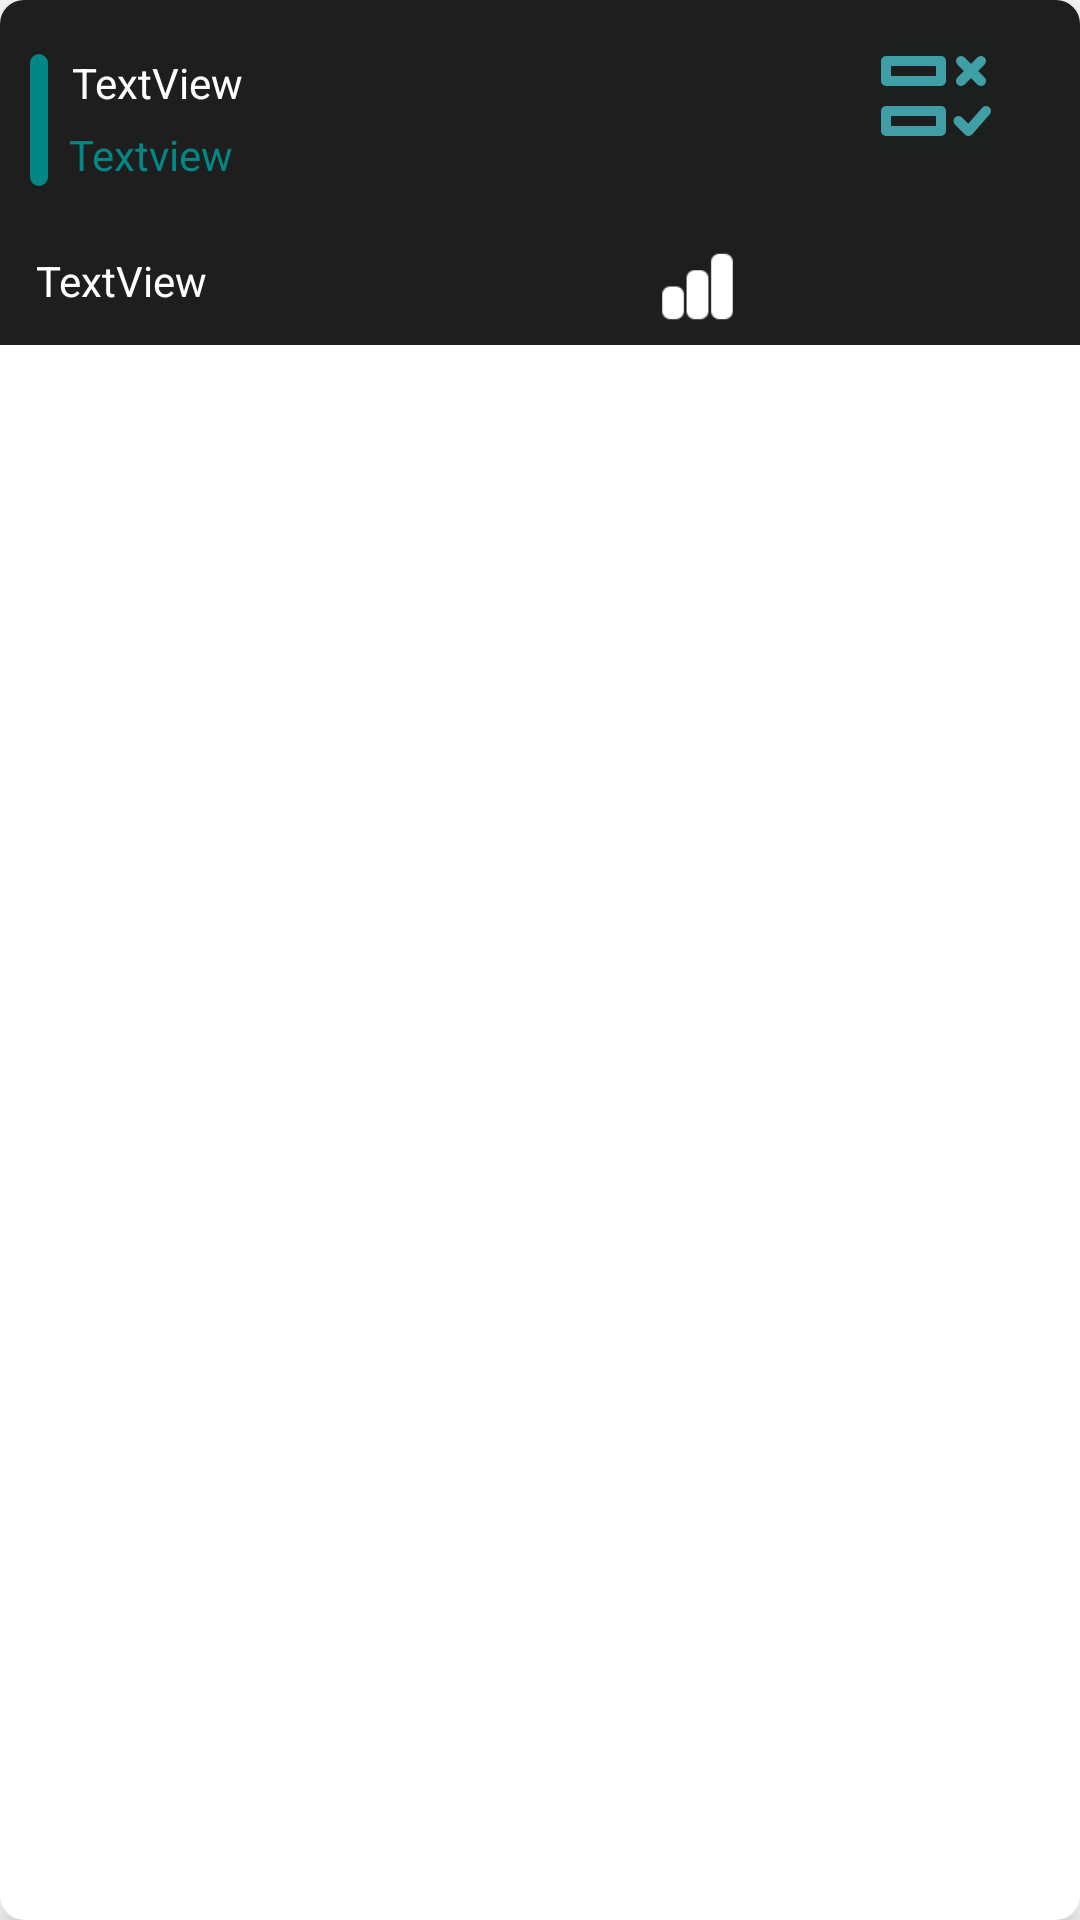

Named icons in this screenshot (1080w x 1920h) and their bounding boxes, bbox=[x1, y1, x2, y2]:
checklist: bbox=[881, 56, 991, 136]
stat: bbox=[662, 253, 733, 320]
